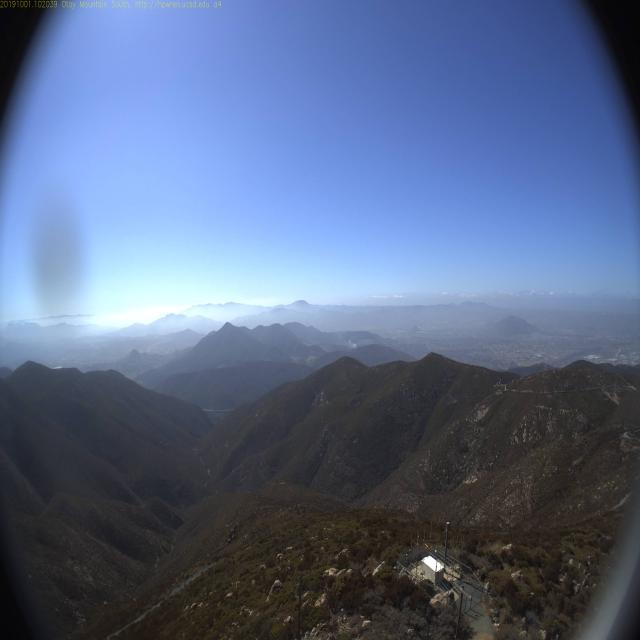smoke: (330, 326, 363, 352)
